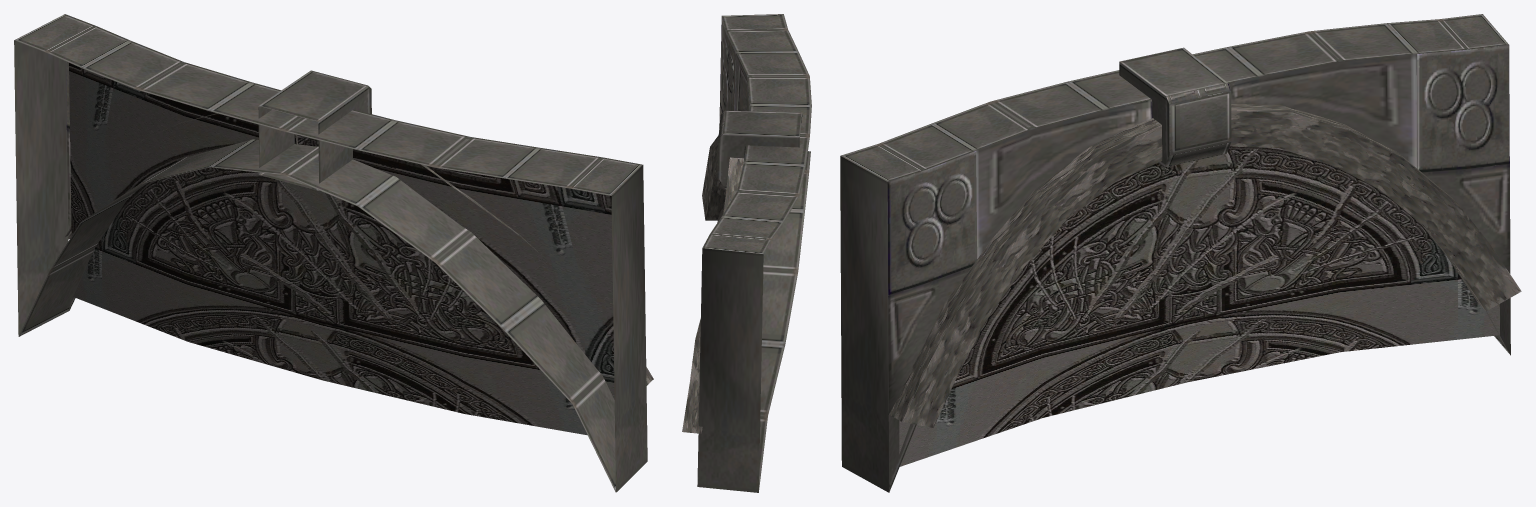
Rendered from CH09_SMAUG_PLAYSURFACE_LAIR23.fbx.
3 views of the same model, side by side, from view 1: azimuth 30°, elevation 25°; view 2: azimuth 150°, elevation 25°; view 3: azimuth 270°, elevation 25° (orthographic). The views are drawn at different scales.
Parts seen in each view (by area): view 1: CH09_SMAUG_PLAYSURFACE_LAIR23; view 2: CH09_SMAUG_PLAYSURFACE_LAIR23; view 3: CH09_SMAUG_PLAYSURFACE_LAIR23.
Boxes of the visible parts, x1,y1,x2,y2 form: CH09_SMAUG_PLAYSURFACE_LAIR23: [14, 14, 653, 492]; CH09_SMAUG_PLAYSURFACE_LAIR23: [682, 14, 811, 492]; CH09_SMAUG_PLAYSURFACE_LAIR23: [840, 14, 1521, 492].
Size of the model in its own units: 95844 by 80927 by 152953.
Materials: 4 (4 with a texture image).
